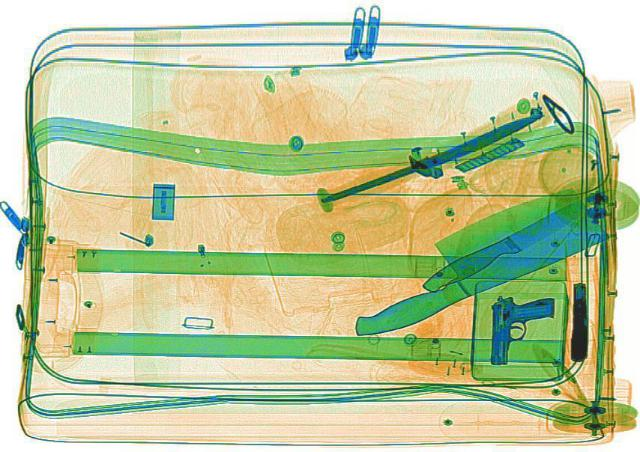Gun: (487, 293, 555, 362), (568, 280, 590, 361)
Knife: (310, 182, 622, 341), (413, 180, 619, 294), (318, 110, 550, 205)
